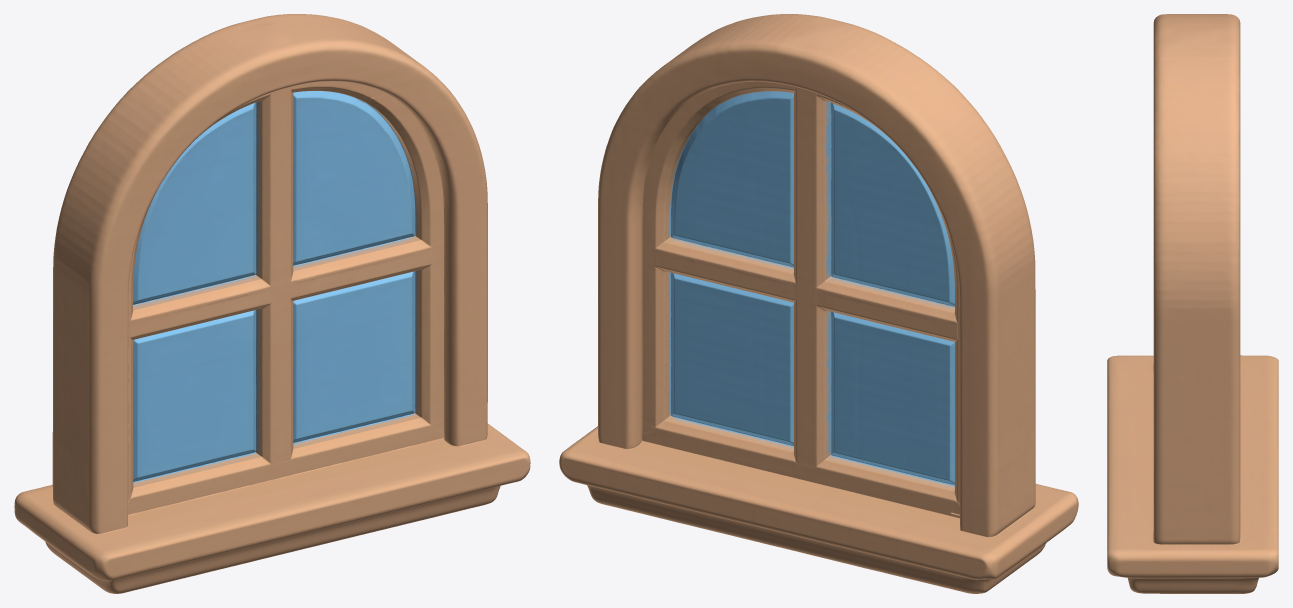
Rendered from Window.fbx.
3 views of the same model, side by side, from view 1: azimuth 30°, elevation 25°; view 2: azimuth 150°, elevation 25°; view 3: azimuth 270°, elevation 25° (orthographic). The views are drawn at different scales.
Visible parts, largest first — view 1: arched window 3d model; view 2: arched window 3d model; view 3: arched window 3d model.
Boxes of the visible parts, box(x1,y1,x2,y2) form: arched window 3d model: box(14, 14, 530, 593); arched window 3d model: box(559, 14, 1078, 593); arched window 3d model: box(1107, 14, 1278, 593).
Size of the model in its own units: 0.9181 by 1 by 0.3293.
Materials: 1 (1 with a texture image).
